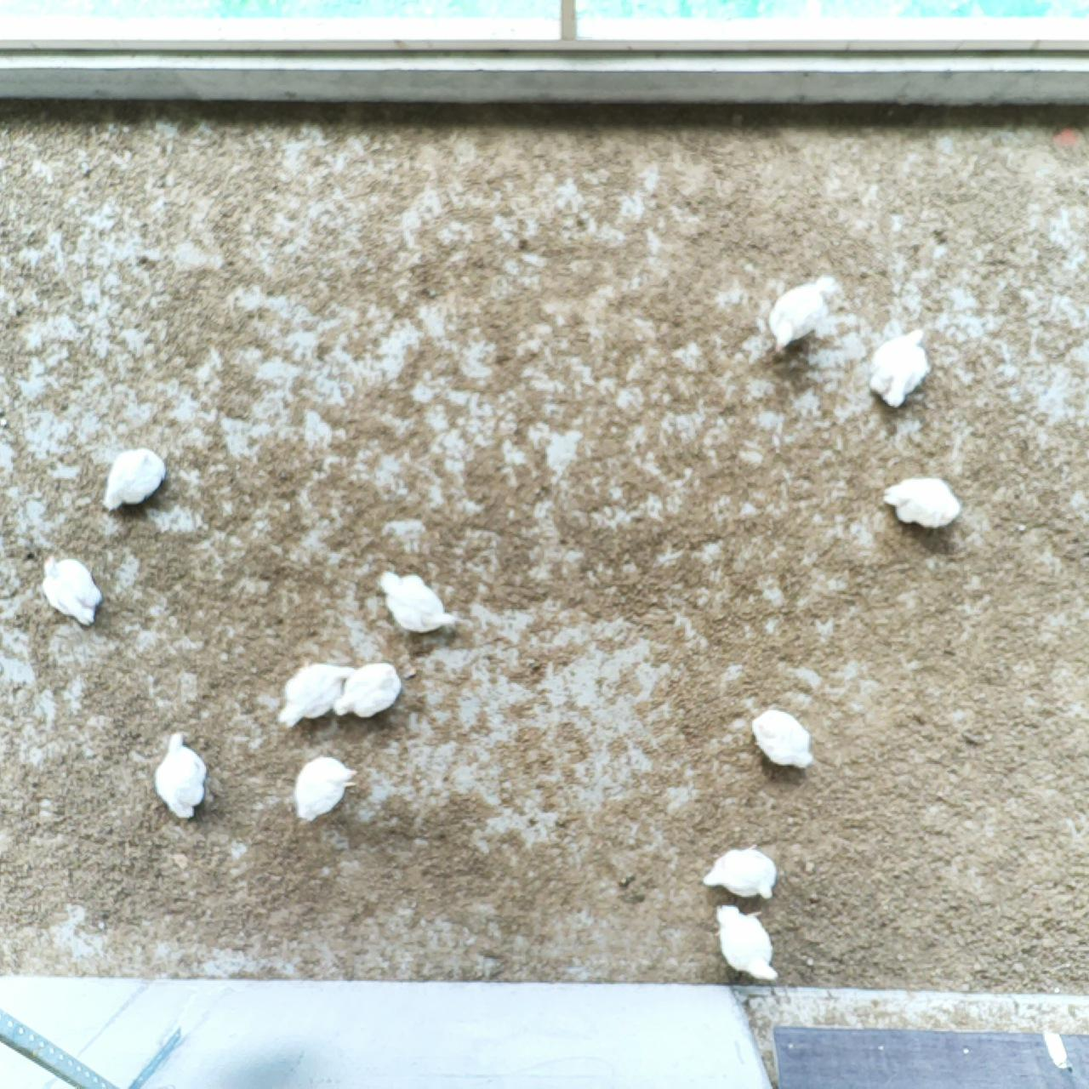chicken: (708, 898, 782, 985), (767, 269, 842, 351), (371, 570, 462, 637), (151, 731, 214, 820), (879, 471, 965, 535), (865, 327, 932, 409), (35, 549, 105, 626), (276, 661, 351, 732), (293, 752, 358, 832), (699, 845, 781, 903), (98, 446, 167, 514), (330, 658, 403, 722), (751, 707, 815, 776)
